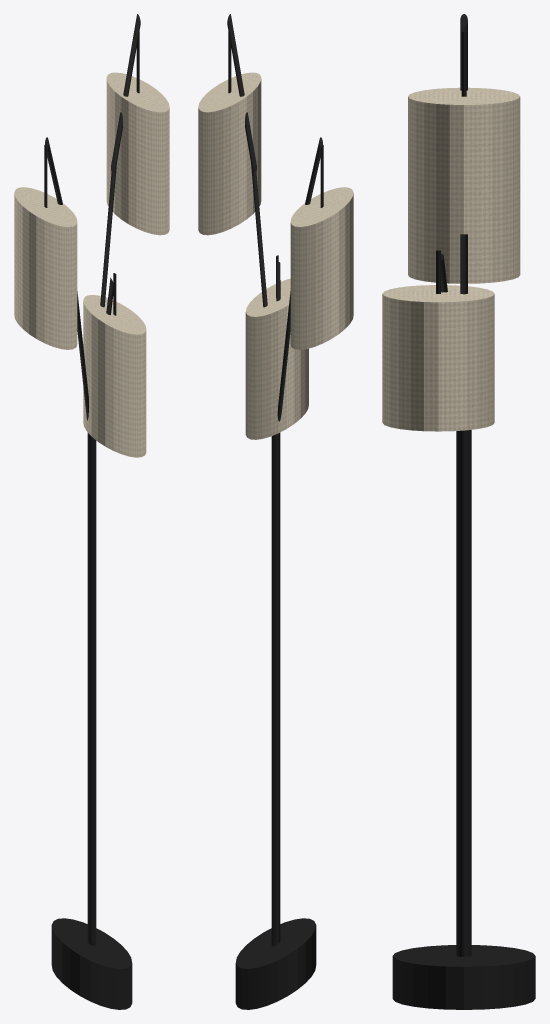
The picture shows the model from 3 angles, left to right: view 1: azimuth 30°, elevation 25°; view 2: azimuth 150°, elevation 25°; view 3: azimuth 270°, elevation 25°; orthographic projection. The views are drawn at different scales.
Parts seen in each view (by area): view 1: 6 lampshade_left, 9 lampshade_center, 13 lampshade_right, 1 base, 2 main_pole, 11 arm_right_upper, 10 arm_right_lower, 3 arm_left_lower; view 2: 6 lampshade_left, 13 lampshade_right, 9 lampshade_center, 1 base, 2 main_pole, 11 arm_right_upper, 10 arm_right_lower, 3 arm_left_lower; view 3: 13 lampshade_right, 9 lampshade_center, 1 base, 2 main_pole, 6 lampshade_left, 10 arm_right_lower, 12 stem_right.
Boxes of the visible parts, bbox=[...] form: 6 lampshade_left: bbox=[14, 187, 77, 349]; 9 lampshade_center: bbox=[83, 295, 146, 457]; 13 lampshade_right: bbox=[106, 72, 169, 235]; 1 base: bbox=[51, 918, 132, 1009]; 2 main_pole: bbox=[87, 433, 96, 946]; 11 arm_right_upper: bbox=[111, 14, 140, 174]; 10 arm_right_lower: bbox=[100, 160, 116, 307]; 3 arm_left_lower: bbox=[77, 291, 88, 420]; 6 lampshade_left: bbox=[290, 187, 353, 349]; 13 lampshade_right: bbox=[198, 72, 261, 235]; 9 lampshade_center: bbox=[245, 278, 308, 439]; 1 base: bbox=[235, 918, 316, 1009]; 2 main_pole: bbox=[271, 433, 280, 946]; 11 arm_right_upper: bbox=[227, 14, 256, 174]; 10 arm_right_lower: bbox=[251, 160, 267, 307]; 3 arm_left_lower: bbox=[277, 291, 290, 421]; 13 lampshade_right: bbox=[408, 87, 520, 234]; 9 lampshade_center: bbox=[382, 285, 494, 431]; 1 base: bbox=[392, 945, 535, 1009]; 2 main_pole: bbox=[456, 430, 471, 956]; 6 lampshade_left: bbox=[408, 226, 520, 283]; 10 arm_right_lower: bbox=[460, 234, 467, 294]; 12 stem_right: bbox=[461, 32, 466, 96].
Bounding box in the file's own units: 0.2794 × 2.03 × 0.2794.
2 materials, 1 textured.
